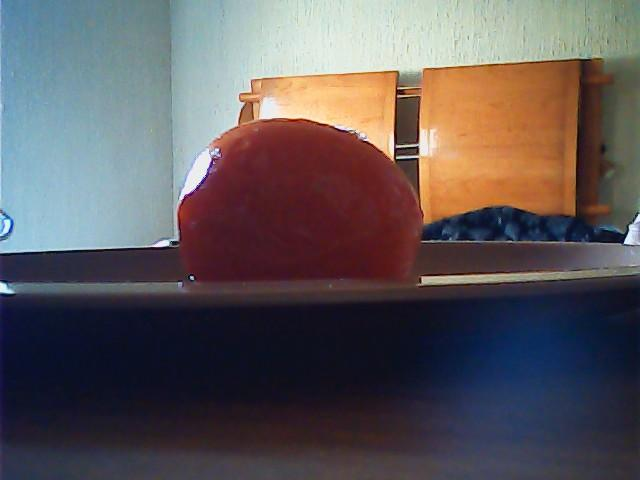maduro: (172, 117, 425, 288)
